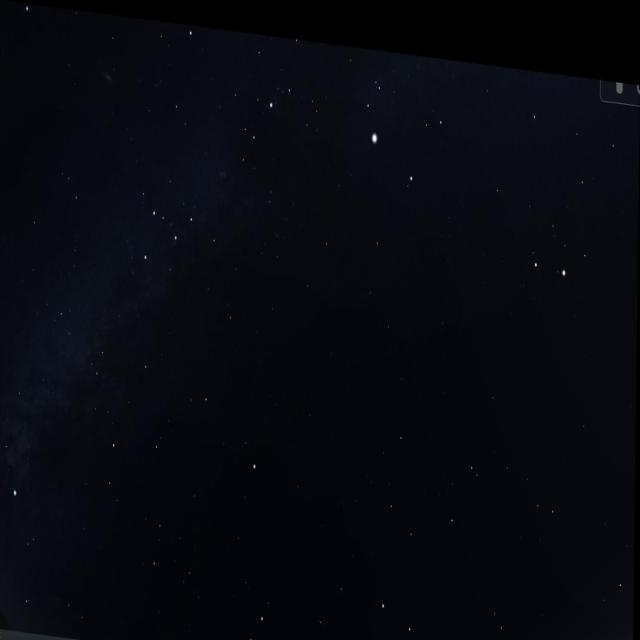cassiopeia: (144, 190, 226, 294)
